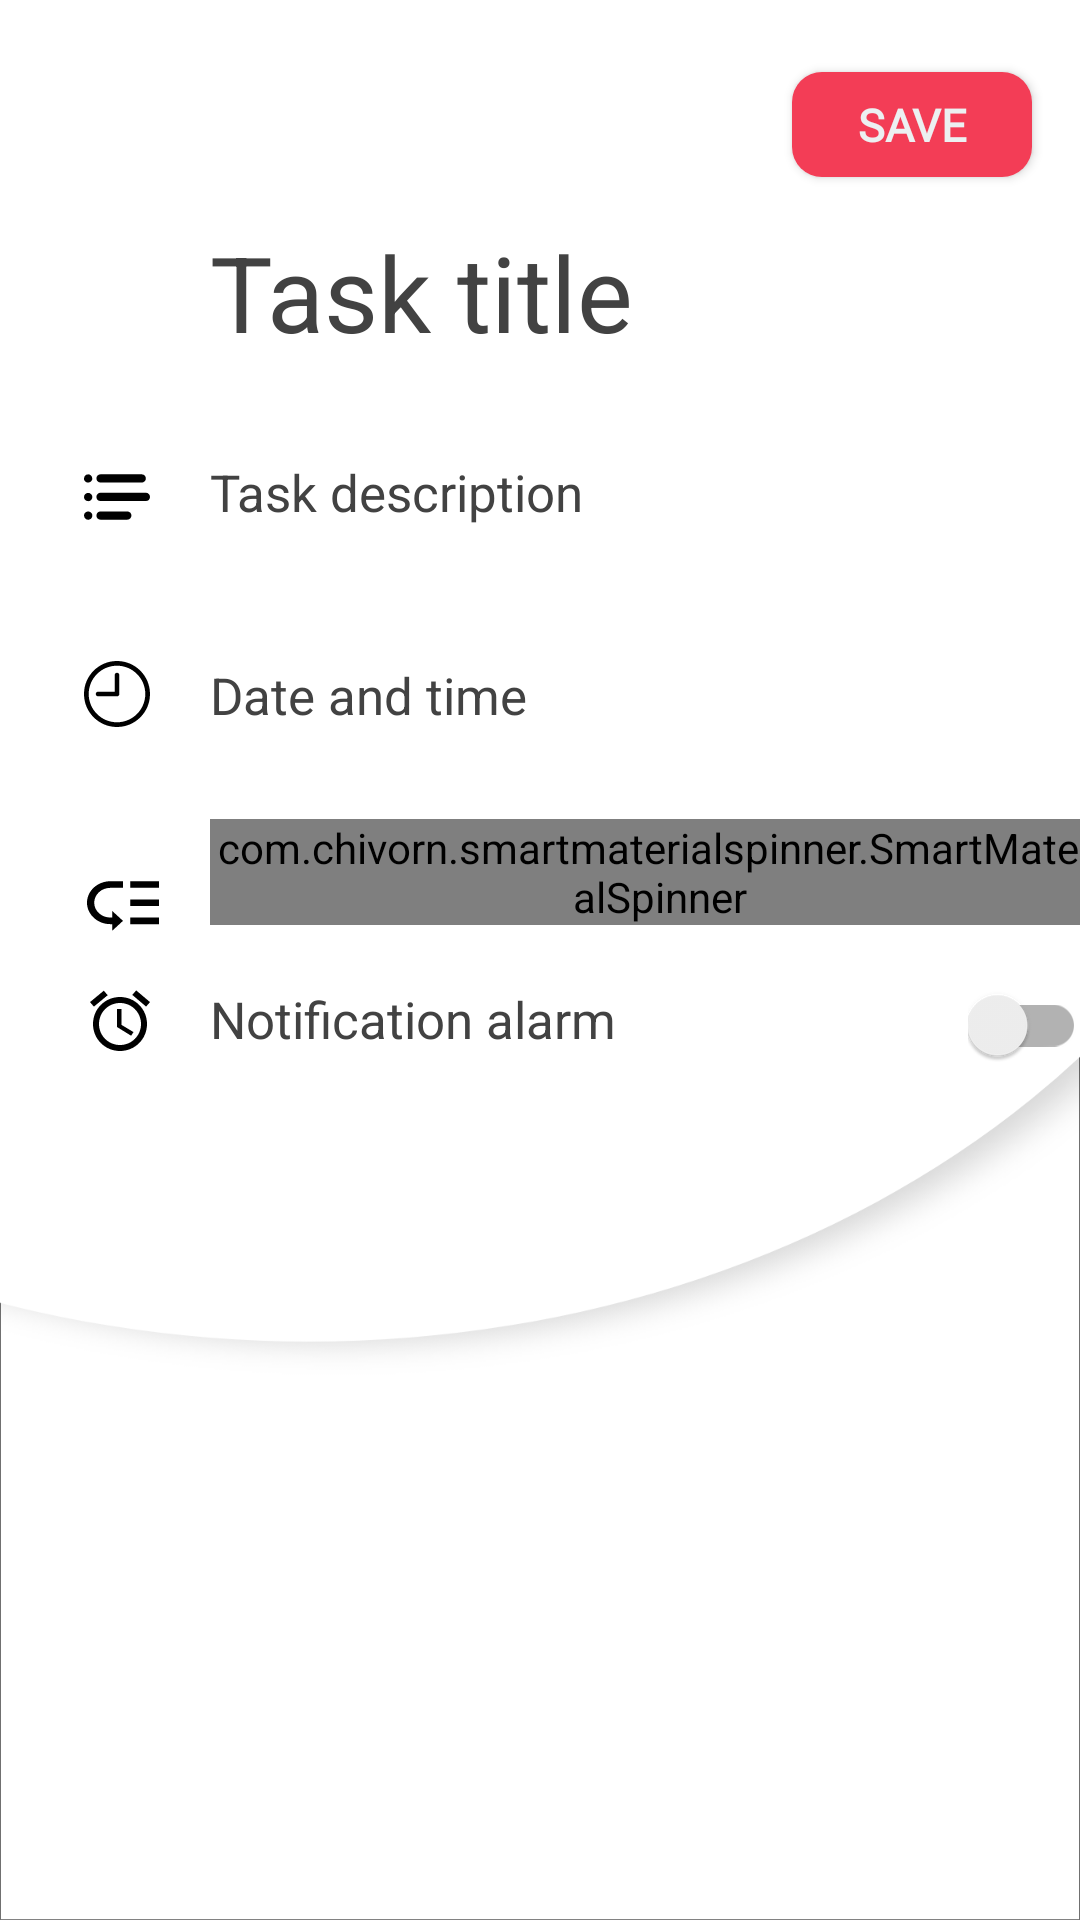

Point at icon controls on the screen. Image size 1080×1920, points as (x=x, y=y).
task alerm: (x=120, y=1020)
task priority: (x=123, y=906)
task time: (x=117, y=694)
